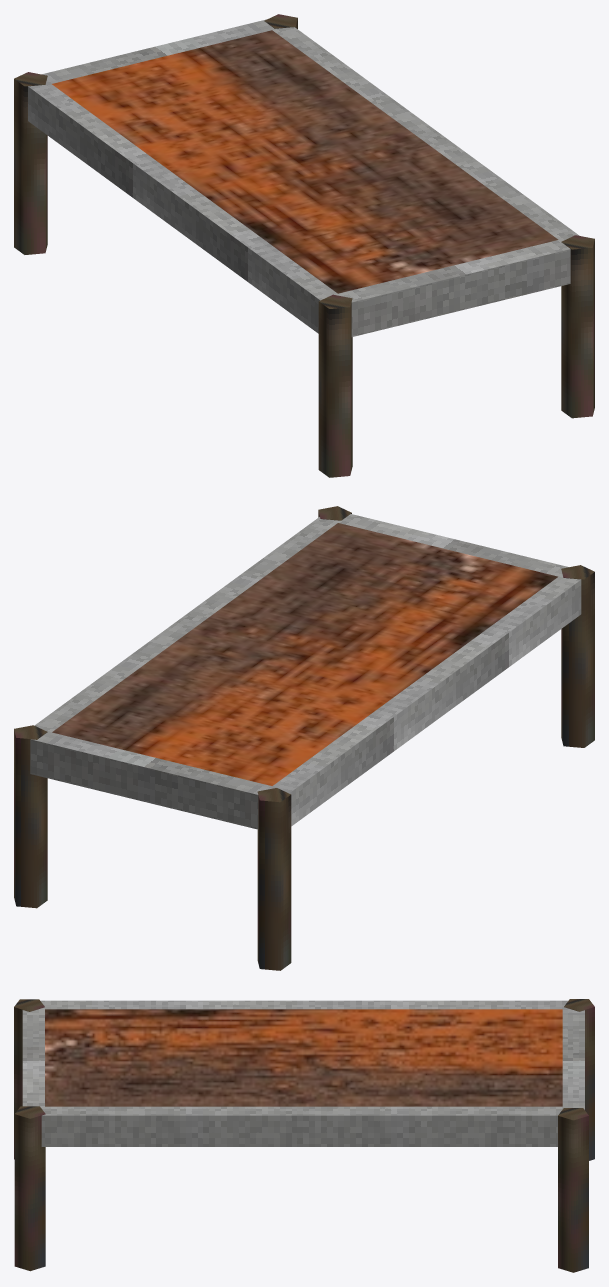
File: tablea.glb
3 views of the same model, one above another, from view 1: azimuth 30°, elevation 25°; view 2: azimuth 150°, elevation 25°; view 3: azimuth 270°, elevation 25° (orthographic). The views are drawn at different scales.
Visible parts, largest first — view 1: Box001, Cylinder002, Cylinder003, Cylinder001; view 2: Box001, Cylinder001, Cylinder004, Cylinder002; view 3: Box001, Cylinder003, Cylinder004, Cylinder001, Cylinder002.
Part boxes in pixels (x1,y1,x2,y2): Box001: (28, 19, 579, 336); Cylinder002: (318, 294, 352, 477); Cylinder003: (561, 235, 594, 418); Cylinder001: (14, 72, 47, 254); Box001: (30, 514, 581, 829); Cylinder001: (257, 788, 291, 970); Cylinder004: (14, 725, 47, 908); Cylinder002: (561, 565, 594, 747); Box001: (22, 1000, 584, 1146); Cylinder003: (14, 1106, 45, 1271); Cylinder004: (558, 1108, 588, 1272); Cylinder001: (564, 999, 594, 1160); Cylinder002: (14, 999, 44, 1159).
Bounding box in the file's own units: 0.5214 × 0.3052 × 1.05.
Materials: 3 (3 with a texture image).
